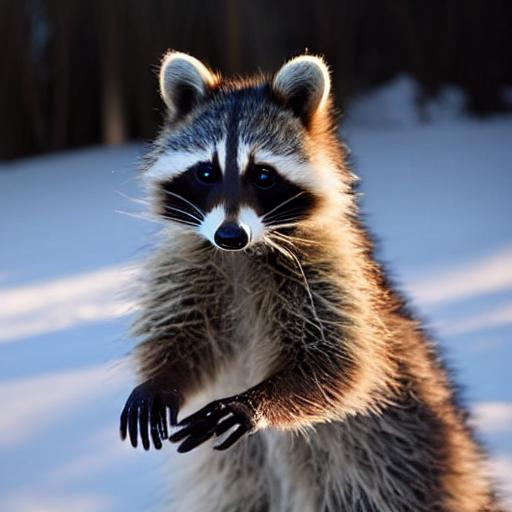raccoon: (114, 38, 506, 512)
